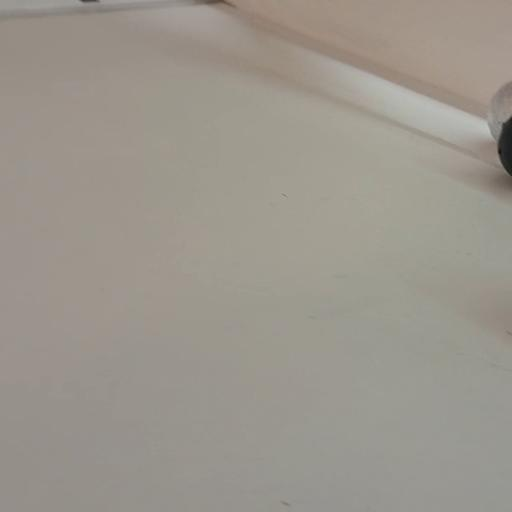alive: (486, 81, 512, 144)
dead: (496, 117, 512, 177)
